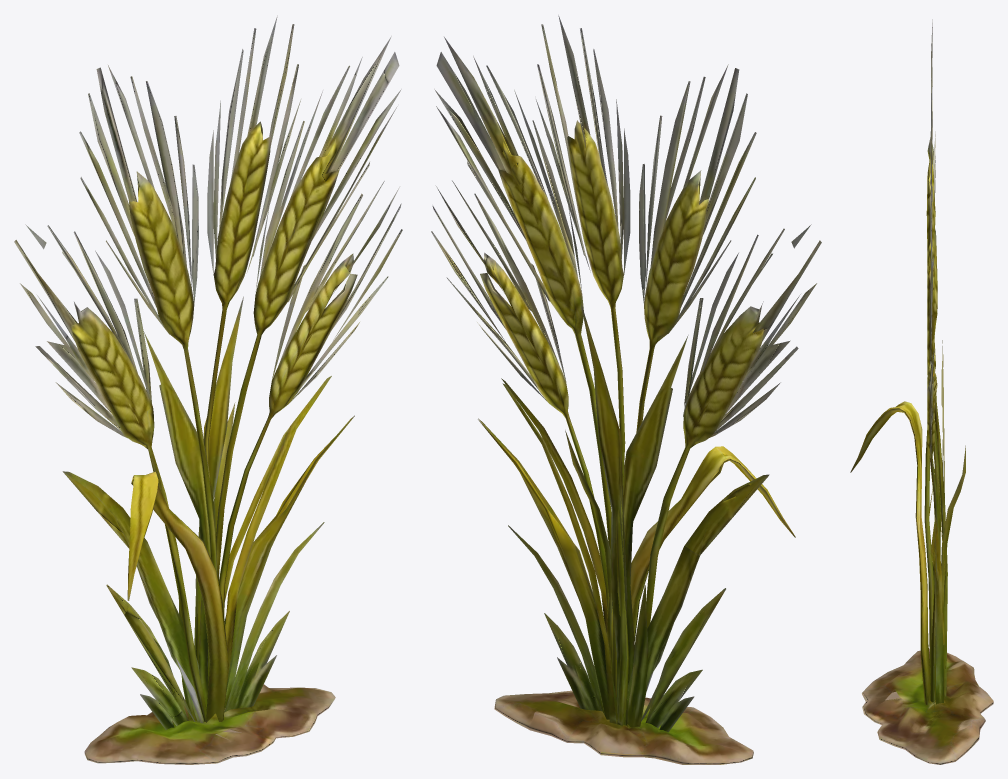
The model's file is camp_orge.glb.
3 views of the same model, side by side, from view 1: azimuth 30°, elevation 25°; view 2: azimuth 150°, elevation 25°; view 3: azimuth 270°, elevation 25° (orthographic). The views are drawn at different scales.
Parts seen in each view (by area): view 1: geometry_0; view 2: geometry_0; view 3: geometry_0.
Part boxes in pixels (x1,y1,x2,y2): geometry_0: (14,15,402,764); geometry_0: (431,15,821,764); geometry_0: (850,19,993,764).
Size of the model in its own units: 0.5557 by 0.9512 by 0.1894.
1 material, 1 textured.
